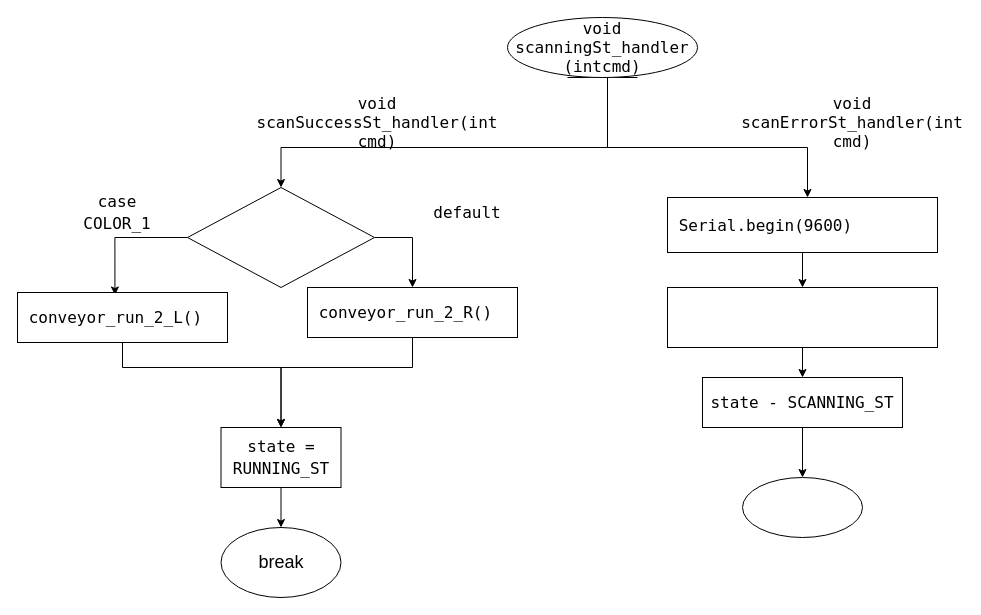
This 981x615 diagram has some shape labels left out. The box of each missing label's shape, as (x1, y1, x2, y2) in pixels:
return: (742, 476, 862, 538)
Serial.println ("Ошибка сканированияб поправьте кубики"): (666, 286, 938, 348)
switch(cmd): (186, 186, 374, 288)
